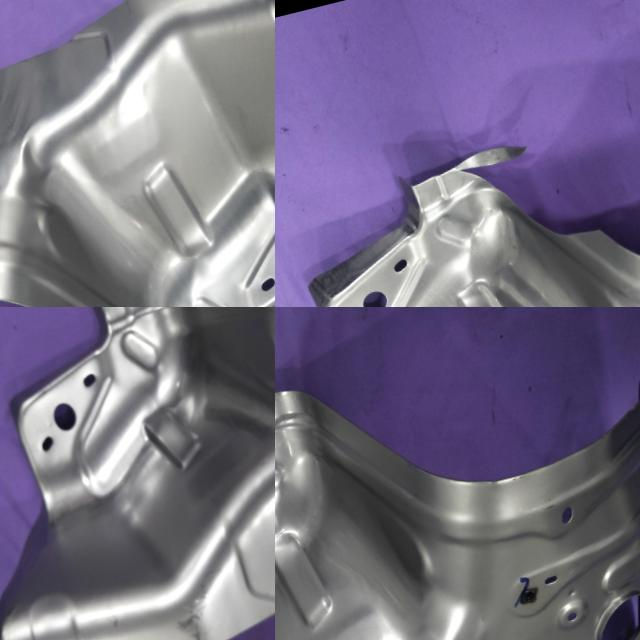Defect: (446, 100, 626, 286)
Healthy: (275, 307, 640, 640), (0, 0, 275, 307)
rust: (0, 585, 236, 640)
